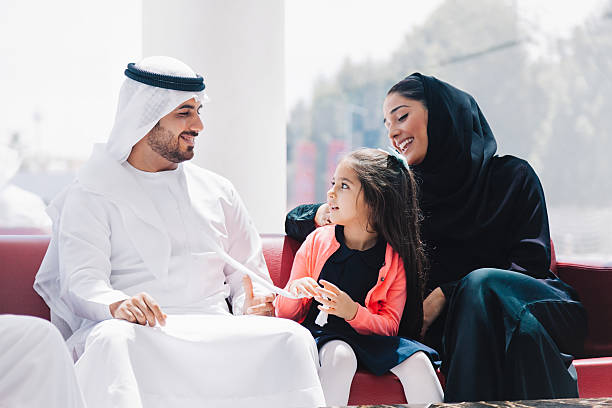without mask: (139, 80, 213, 164), (319, 153, 393, 237), (375, 82, 449, 166)
